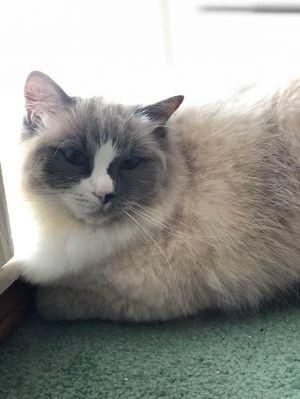ragdoll: (17, 68, 190, 243)
